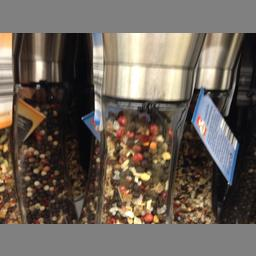spices: (86, 32, 202, 223), (9, 32, 90, 223)
